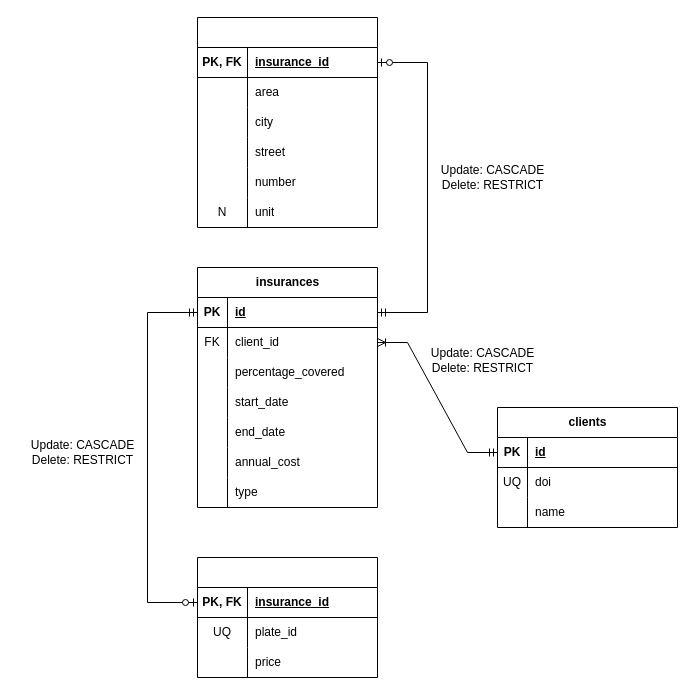
Image size: 695x695. Some labels were removed from this diagram. The box of each missing label's shape, as (x1, y1, x2, y2) in pixels:
property: (196, 16, 378, 228)
vehicles: (196, 556, 378, 678)
